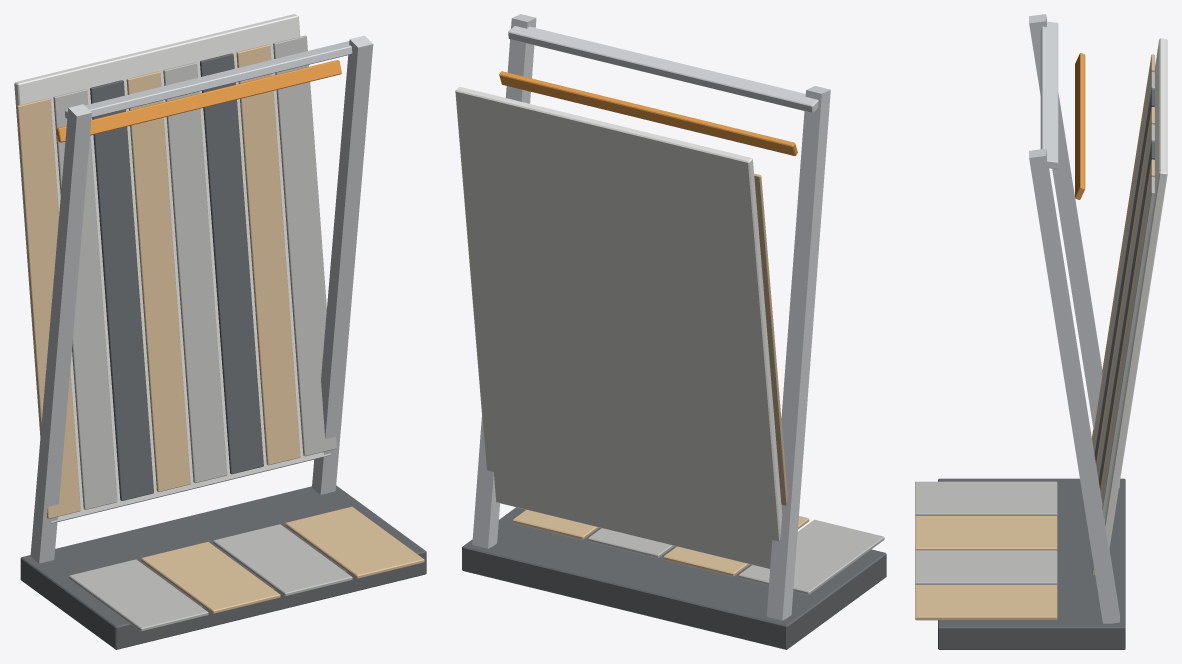
3 renders of one model, left to right at view 1: azimuth 30°, elevation 25°; view 2: azimuth 150°, elevation 25°; view 3: azimuth 270°, elevation 25°, orthographic. The views are drawn at different scales.
Parts seen in each view (by area): view 1: flooring-display-board; view 2: flooring-display-board; view 3: flooring-display-board.
Boxes of the visible parts, x1=… form: flooring-display-board: x1=14, y1=14, x2=426, y2=649; flooring-display-board: x1=455, y1=14, x2=886, y2=649; flooring-display-board: x1=915, y1=14, x2=1167, y2=649.
Size of the model in its own units: 1.24 by 1.9 by 0.8876.
